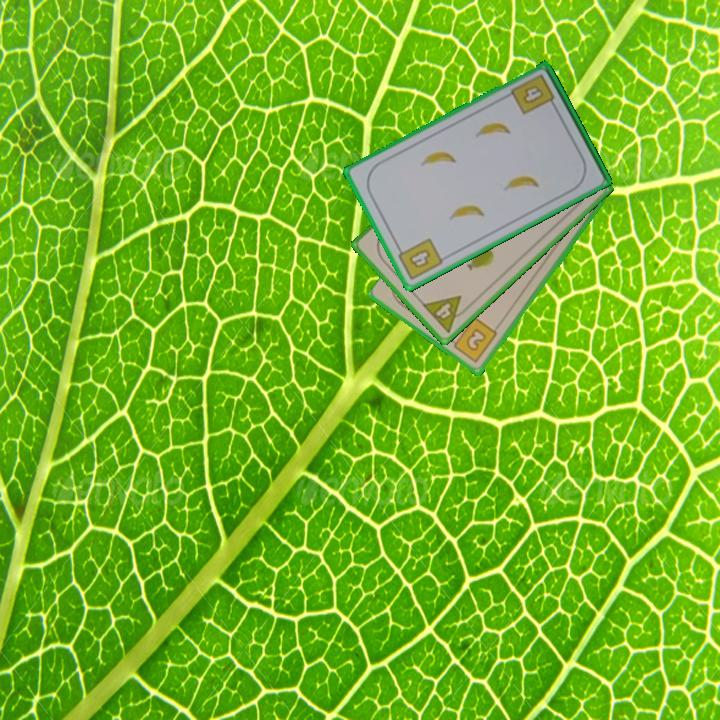2b: (446, 314, 500, 366)
4b: (393, 235, 446, 283), (507, 70, 559, 118)
4p: (419, 292, 473, 336)
